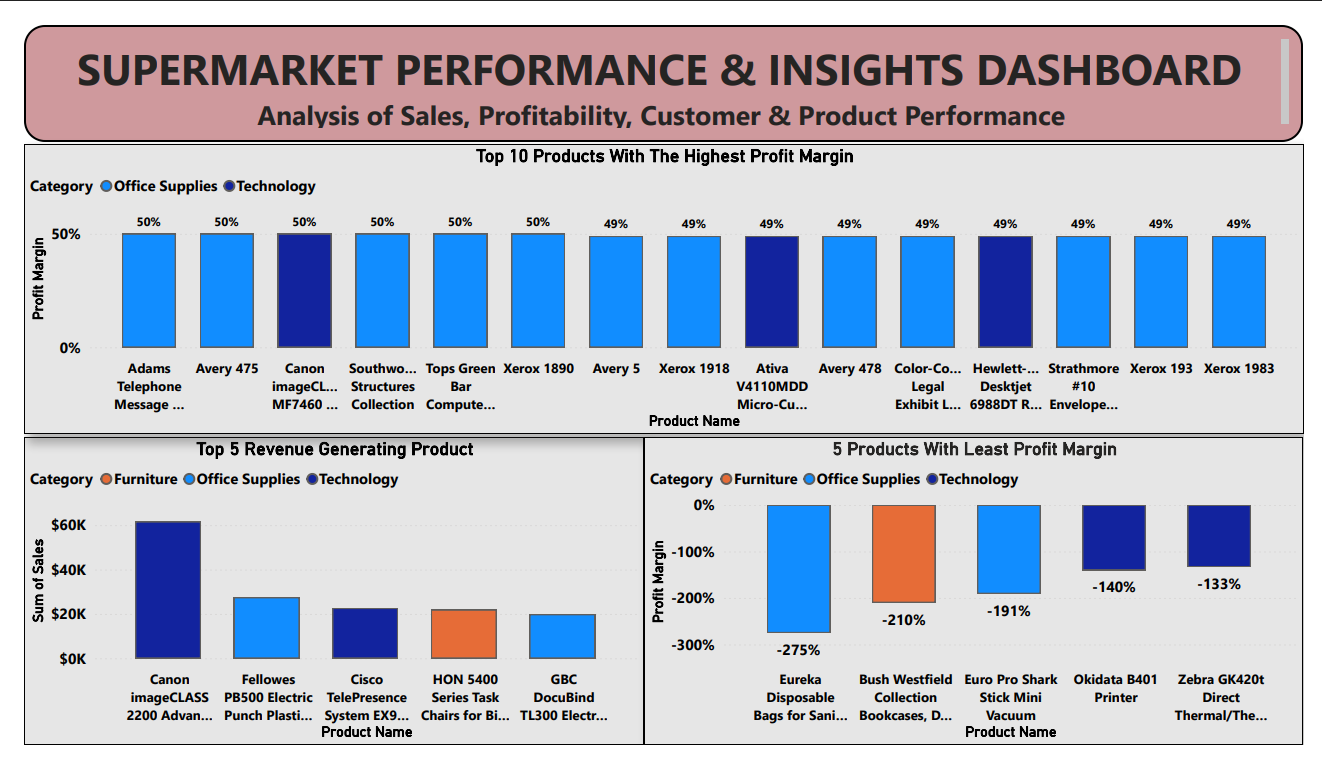

This screenshot's page, from the dashboard's own definition file:
{"tool":"powerbi","page":{"name":"Page 6","canvas":[1280,720],"ordinal":5},"visuals":[{"type":"textbox","box":[0,0,1279.4,117.2],"z":0},{"type":"lineStackedColumnComboChart","title":"Top 5 Revenue Generating Product","fields":{"Category":["Sample - Superstore excel cleaned.Product Name"],"Y":["Sum(Sample - Superstore excel cleaned.Sales)"],"Series":["Sample - Superstore excel cleaned.Category"]},"box":[0,412,619.8,308],"z":1000},{"type":"columnChart","title":"Top 10 Products With The Highest Profit Margin","fields":{"Category":["Sample - Superstore excel cleaned.Product Name"],"Y":["Sample - Superstore excel cleaned.Profit Margin"],"Series":["Sample - Superstore excel cleaned.Category"]},"box":[0,119,1280,290],"z":2000},{"type":"columnChart","title":"5 Products With Least Profit Margin","fields":{"Category":["Sample - Superstore excel cleaned.Product Name"],"Y":["Sample - Superstore excel cleaned.Profit Margin"],"Series":["Sample - Superstore excel cleaned.Category"]},"box":[619.8,412,659.5,308],"z":3000}]}

Visuals, with their boxes on the page's 1280x720 design canvas (x1, y1, x2, y2). These are canvas units, not pixel positions in the 1322x769 screenshot, which may show the page scaled, cropped or inside an application window:
textbox: Rect(0, 0, 1279, 117)
"Top 5 Revenue Generating Product" lineStackedColumnComboChart: Rect(0, 412, 620, 720)
"Top 10 Products With The Highest Profit Margin" columnChart: Rect(0, 119, 1280, 409)
"5 Products With Least Profit Margin" columnChart: Rect(620, 412, 1279, 720)
